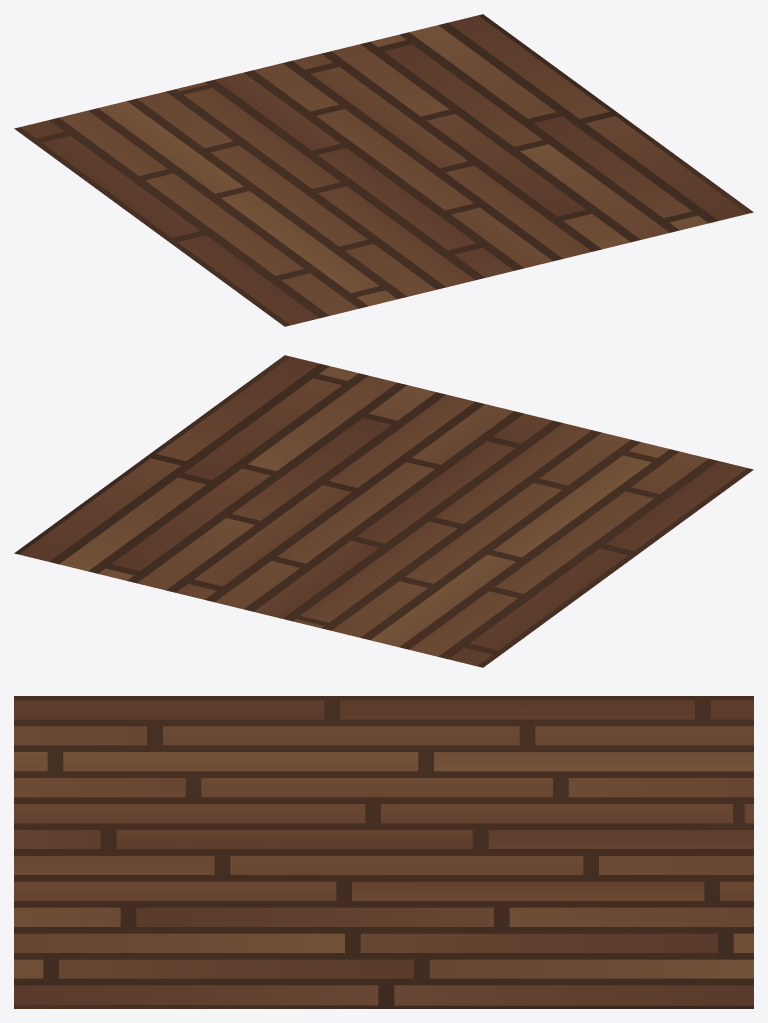
File: RegularFloor.fbx
3 views of the same model, one above another, from view 1: azimuth 30°, elevation 25°; view 2: azimuth 150°, elevation 25°; view 3: azimuth 270°, elevation 25° (orthographic). The views are drawn at different scales.
Parts seen in each view (by area): view 1: SM_Wood_FloorTilable.040; view 2: SM_Wood_FloorTilable.040; view 3: SM_Wood_FloorTilable.040.
Boxes of the visible parts, x1,y1,x2,y2 form: SM_Wood_FloorTilable.040: [14, 14, 753, 326]; SM_Wood_FloorTilable.040: [14, 355, 753, 667]; SM_Wood_FloorTilable.040: [14, 696, 753, 1008].
Size of the model in its own units: 200 by 4.15e-05 by 200.
Materials: 1 (1 with a texture image).
